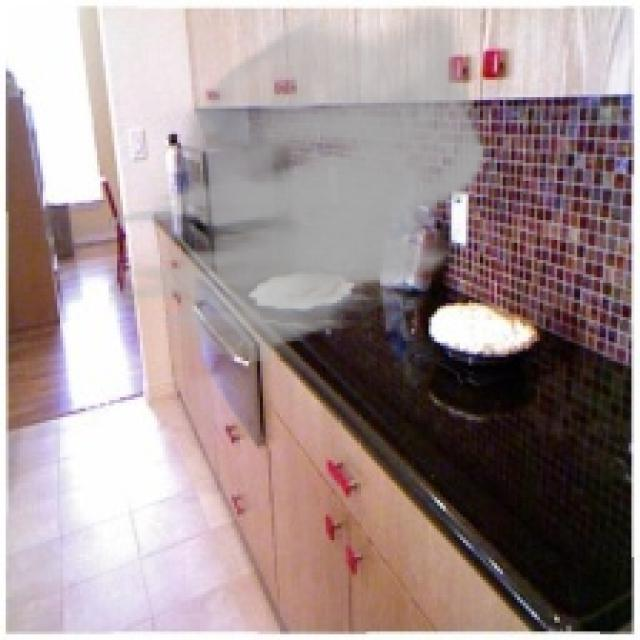smoke: (108, 6, 486, 366)
